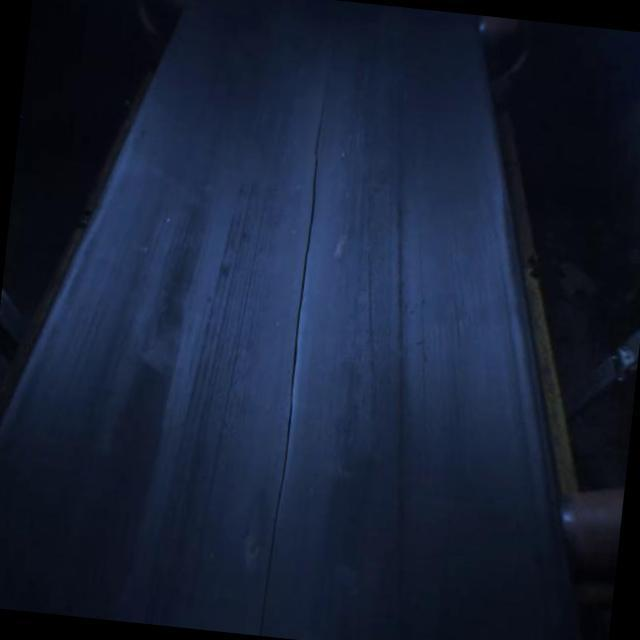Tear: (252, 67, 336, 638)
